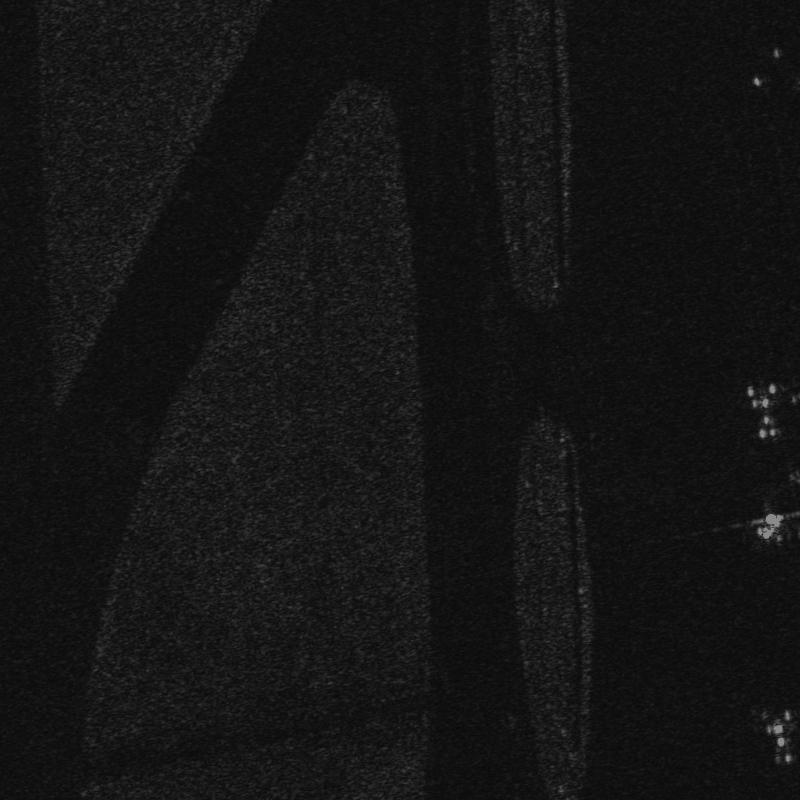ARJ21: (747, 498, 799, 544)
other: (738, 371, 785, 449)
